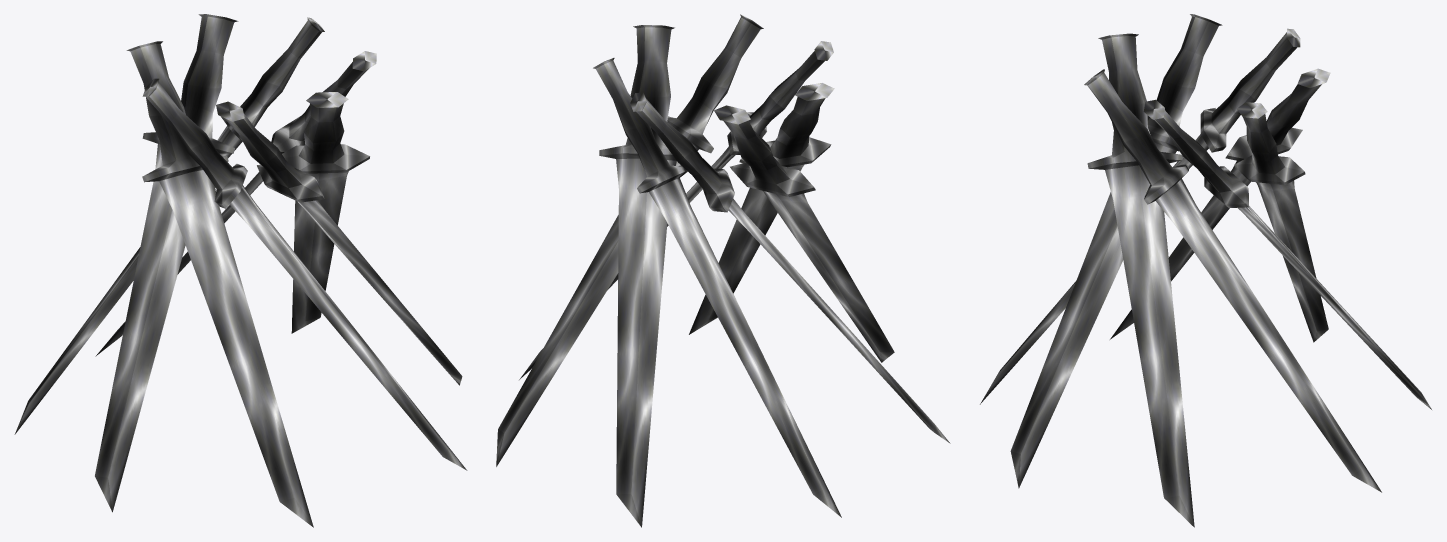
Rendered from donghua1.fbx.
3 renders of one model, left to right at view 1: azimuth 30°, elevation 25°; view 2: azimuth 150°, elevation 25°; view 3: azimuth 270°, elevation 25°, orthographic.
Parts seen in each view (by area): view 1: J1, J2, J7, J5, J6, J3, J4; view 2: J4, J3, J5, J1, J7, J2, J6; view 3: J6, J5, J7, J3, J4, J1, J2.
Boxes of the visible parts, left/top/right/bottom form: J1: left=126, top=41, right=313, bottom=527; J2: left=95, top=14, right=238, bottom=512; J7: left=142, top=78, right=467, bottom=470; J5: left=282, top=92, right=369, bottom=333; J6: left=216, top=101, right=462, bottom=385; J3: left=14, top=17, right=324, bottom=434; J4: left=95, top=51, right=376, bottom=356; J4: left=599, top=25, right=676, bottom=527; J3: left=593, top=58, right=841, bottom=517; J5: left=496, top=14, right=763, bottom=466; J1: left=714, top=105, right=894, bottom=362; J7: left=689, top=83, right=834, bottom=334; J2: left=630, top=92, right=950, bottom=443; J6: left=519, top=41, right=833, bottom=379; J6: left=1087, top=33, right=1194, bottom=527; J5: left=1084, top=69, right=1381, bottom=492; J7: left=1010, top=14, right=1222, bottom=488; J3: left=1234, top=102, right=1328, bottom=342; J4: left=1143, top=99, right=1431, bottom=409; J1: left=980, top=28, right=1300, bottom=404; J2: left=1110, top=68, right=1330, bottom=339.
Bounding box in the file's own units: 2.58 × 2.35 × 2.63.
